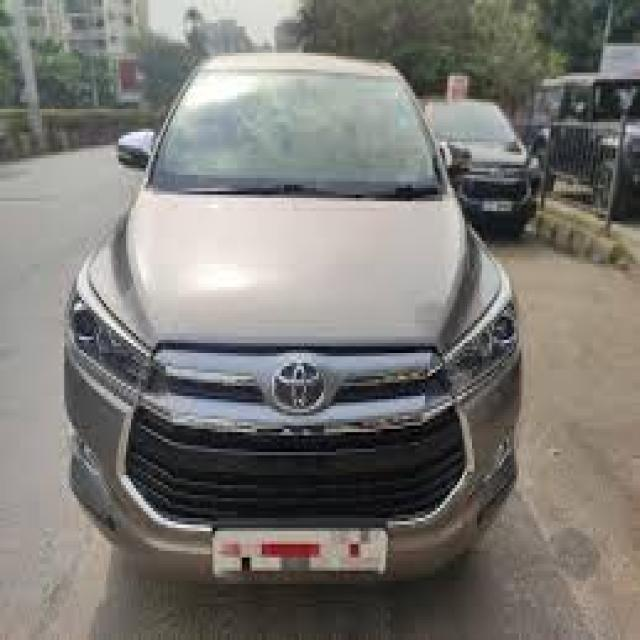light_vehicle: (64, 53, 524, 585), (416, 97, 540, 226)
